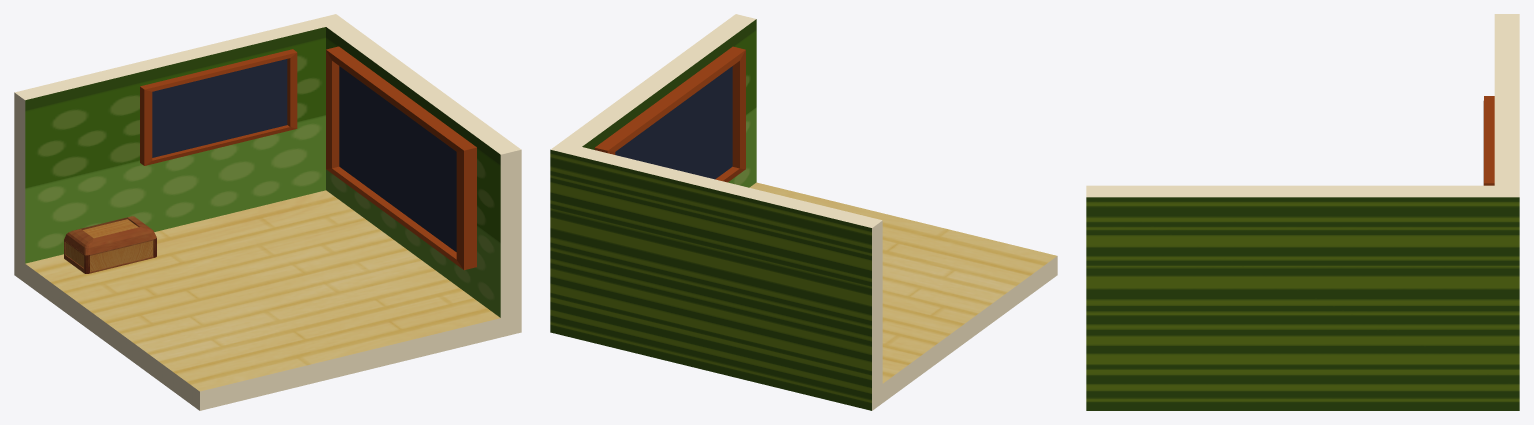
Rendered from hub textured.fbx.
3 renders of one model, left to right at view 1: azimuth 30°, elevation 25°; view 2: azimuth 150°, elevation 25°; view 3: azimuth 270°, elevation 25°, orthographic. The views are drawn at different scales.
Parts seen in each view (by area): view 1: hub wall and floor.001, Arsenal Tab.001, Achievement Tab.001, chest lid.001, chest bottom.001; view 2: hub wall and floor.001, Arsenal Tab.001; view 3: hub wall and floor.001, Achievement Tab.001.
Part boxes in pixels (box(x1,y1,x2,y2)): hub wall and floor.001: box(14, 14, 521, 410); Arsenal Tab.001: box(326, 46, 476, 270); Achievement Tab.001: box(140, 49, 297, 165); chest lid.001: box(64, 216, 156, 255); chest bottom.001: box(64, 238, 156, 273); hub wall and floor.001: box(550, 14, 1057, 410); Arsenal Tab.001: box(594, 46, 745, 182); hub wall and floor.001: box(1086, 14, 1519, 410); Achievement Tab.001: box(1483, 96, 1494, 185).
Size of the model in its own units: 524 by 284 by 523.
